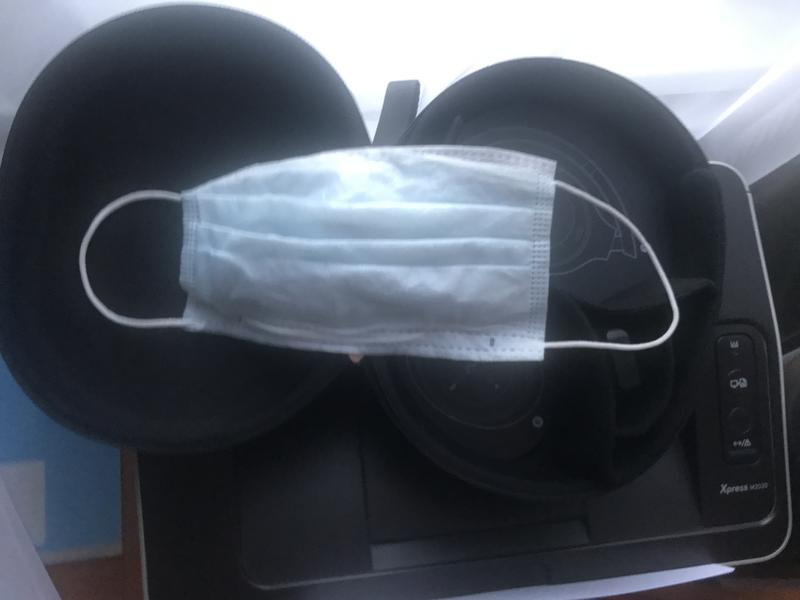medical_mask: (81, 147, 680, 361)
